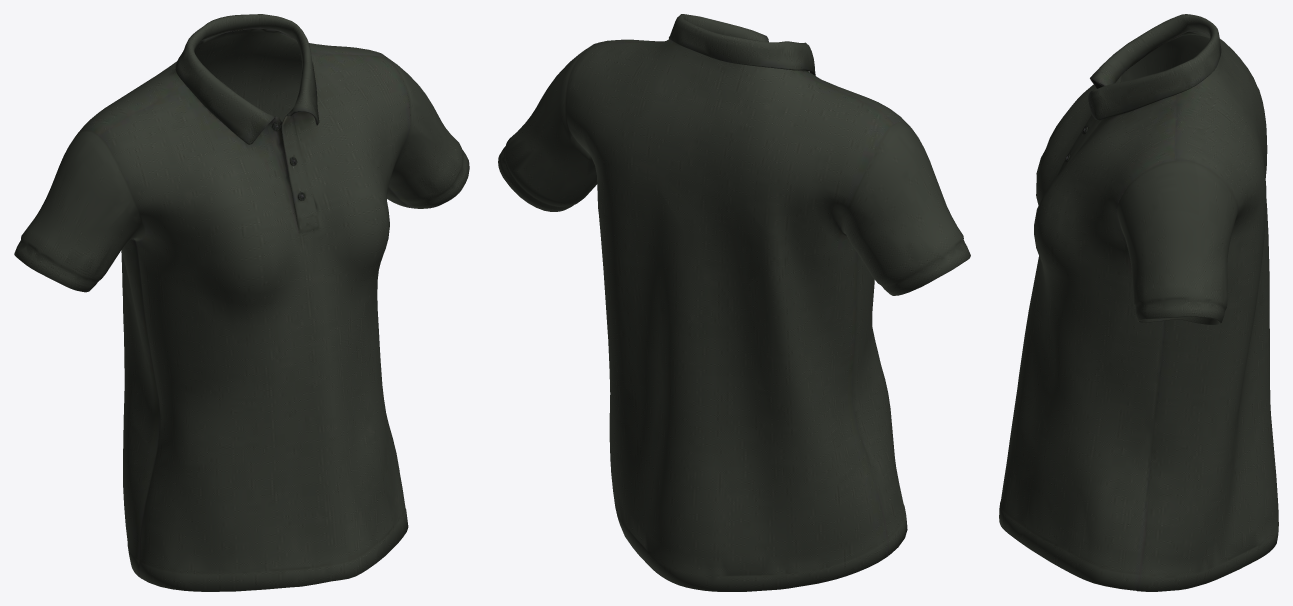
File: womens_thsirt_model-optimized_1783504686104.glb
The picture shows the model from 3 angles, left to right: view 1: azimuth 30°, elevation 25°; view 2: azimuth 150°, elevation 25°; view 3: azimuth 270°, elevation 25°; orthographic projection. The views are drawn at different scales.
Visible parts, largest first — view 1: Polo Shirt.001_0; view 2: Polo Shirt.001_0; view 3: Polo Shirt.001_0.
Boxes of the visible parts, x1,y1,x2,y2 form: Polo Shirt.001_0: [14, 14, 469, 591]; Polo Shirt.001_0: [498, 14, 970, 591]; Polo Shirt.001_0: [999, 14, 1278, 591].
Size of the model in its own units: 0.6431 by 0.7101 by 0.3541.
2 materials, 2 textured.
